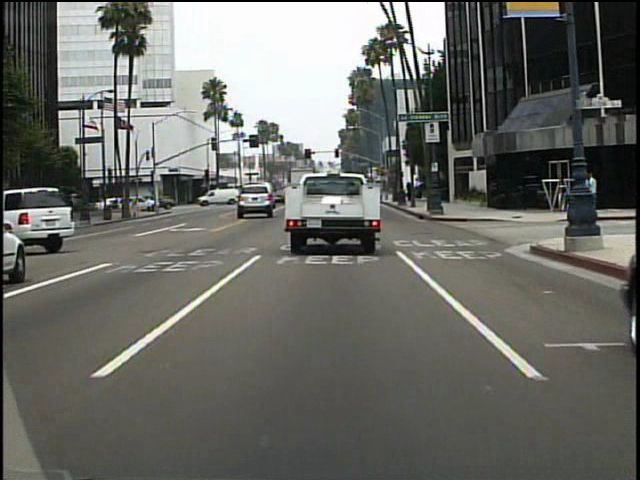person: (584, 169, 601, 218), (578, 172, 591, 215), (144, 191, 157, 217)
